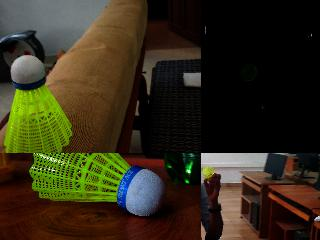shuttlecock: (30, 153, 167, 218), (3, 54, 72, 152), (239, 63, 257, 81), (202, 166, 214, 180)
